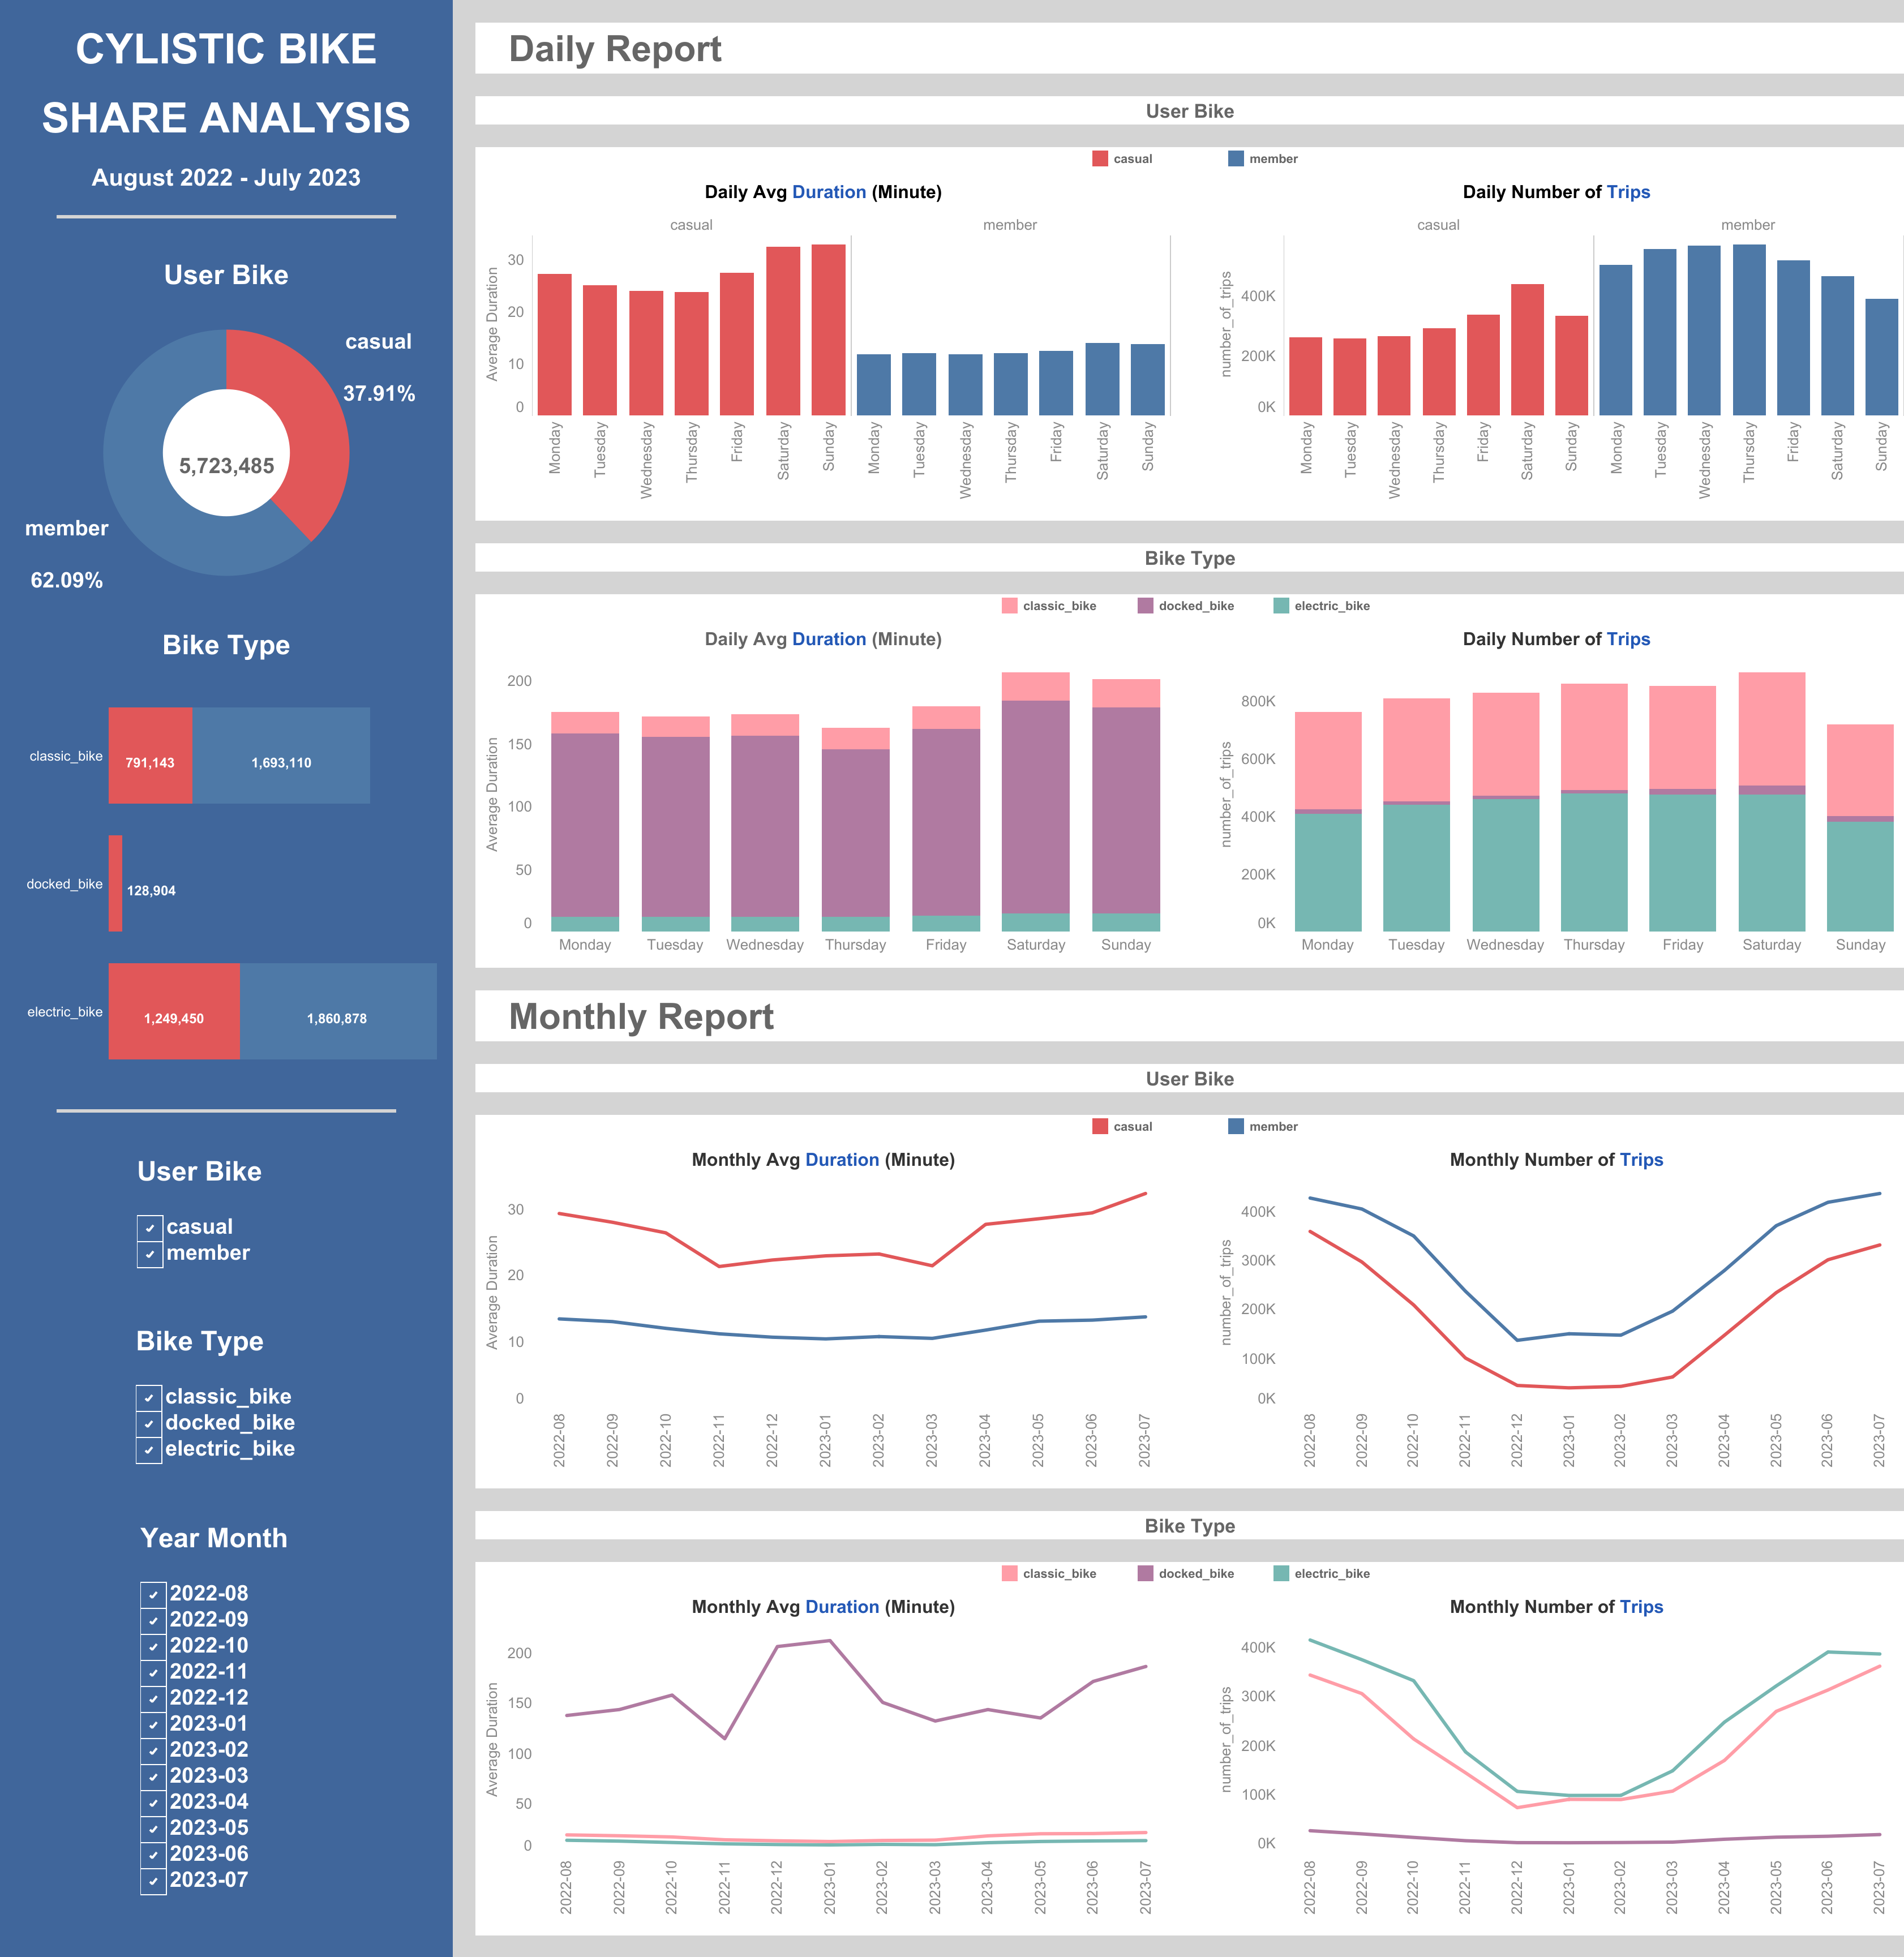

What the dashboard file says about the page in this screenshot:
{"tool":"tableau","page":{"name":"cylistic bike share trips","canvas":[1683,1730],"ordinal":0},"visuals":[{"type":"blank","box":[0,0,400,1730]},{"type":"text","box":[0,20,400,150]},{"type":"text","box":[420,20,1263,45]},{"type":"text","box":[420,85,1263,25]},{"type":"blank","box":[420,130,1263,330]},{"type":"worksheet","title":"daily avg duration (user)","mark":"Automatic","rows":["Calculation_1046946194044203071"],"cols":["member_casual","day_of_week"],"box":[420,130,615,318]},{"type":"legend","title":"daily avg duration (user)","param":"[federated.0k2j8fv1hkhwy61bvl1u911flamf].[none:member_casual:nk]","box":[890,130,340,20]},{"type":"worksheet","title":"daily total trips (users)","mark":"Automatic","rows":["number_of_trips"],"cols":["member_casual","day_of_week"],"box":[1068,130,615,318]},{"type":"blank","box":[50,190,300,3]},{"type":"worksheet","title":"User Bike","mark":"Pie","cols":["Calculation_805299915999571975","Calculation_805299915999891465"],"box":[0,200,400,400]},{"type":"text","box":[0,230,400,25]},{"type":"text","box":[420,480,1263,25]},{"type":"blank","box":[420,525,1263,330]},{"type":"worksheet","title":"daily avg duration (bike)","mark":"Automatic","rows":["Calculation_1046946194044203071"],"cols":["day_of_week"],"box":[420,525,615,318]},{"type":"legend","title":"daily avg duration (bike)","param":"[federated.0k2j8fv1hkhwy61bvl1u911flamf].[none:rideable_type:nk]","box":[810,525,450,20]},{"type":"worksheet","title":"daily total trips (bike)","mark":"Automatic","rows":["number_of_trips"],"cols":["day_of_week"],"box":[1068,525,615,318]},{"type":"worksheet","title":"Bike Type","mark":"Automatic","rows":["rideable_type"],"cols":["number_of_trips"],"box":[0,550,400,400]},{"type":"text","box":[420,875,1263,45]},{"type":"text","box":[420,940,1263,25]},{"type":"blank","box":[50,980,300,3]},{"type":"blank","box":[420,985,1263,330]},{"type":"worksheet","title":"monthly avg duration (user)","mark":"Line","rows":["Calculation_1046946194044203071"],"cols":["year_month"],"box":[420,985,615,318]},{"type":"legend","title":"Bike Type","param":"[federated.0k2j8fv1hkhwy61bvl1u911flamf].[none:member_casual:nk]","box":[890,985,340,20]},{"type":"worksheet","title":"monthly total trips (users)","mark":"Line","rows":["number_of_trips"],"cols":["year_month"],"box":[1068,985,615,318]},{"type":"filter","title":"Bike Type","param":"[federated.0k2j8fv1hkhwy61bvl1u911flamf].[none:member_casual:nk]","box":[121,1020,200,130]},{"type":"blank","box":[126,1070,100,50]},{"type":"filter","title":"Bike Type","param":"[federated.0k2j8fv1hkhwy61bvl1u911flamf].[none:rideable_type:nk]","box":[120,1170,180,160]},{"type":"blank","box":[126,1203,170,80]},{"type":"blank","box":[0,1275,400,40]},{"type":"text","box":[420,1335,1263,25]},{"type":"filter","title":"User Bike","param":"[federated.0k2j8fv1hkhwy61bvl1u911flamf].[none:year_month:nk]","box":[120,1340,280,390]},{"type":"blank","box":[420,1380,1263,330]},{"type":"worksheet","title":"monthly avg duration (bike)","mark":"Line","rows":["Calculation_1046946194044203071"],"cols":["year_month"],"box":[420,1380,615,318]},{"type":"legend","title":"monthly avg duration (bike)","param":"[federated.0k2j8fv1hkhwy61bvl1u911flamf].[none:rideable_type:nk]","box":[810,1380,450,20]},{"type":"worksheet","title":"monthly total trips (bike)","mark":"Line","rows":["number_of_trips"],"cols":["year_month"],"box":[1068,1380,615,318]}]}

Visuals, with their boxes in screenshot pixels (x1, y1, x2, y2), scaled from the page's 1683x1730 canvas onto the 1904x1957 screenshot:
blank: 0/0/453/1956
text: 0/23/453/192
text: 475/23/1903/74
text: 475/96/1903/125
blank: 475/147/1903/520
"daily avg duration (user)" worksheet: 475/147/1171/507
"daily avg duration (user)" legend: 1007/147/1392/170
"daily total trips (users)" worksheet: 1208/147/1903/507
blank: 57/215/396/218
"User Bike" worksheet (Pie marks): 0/226/453/679
text: 0/260/453/289
text: 475/543/1903/571
blank: 475/594/1903/967
"daily avg duration (bike)" worksheet: 475/594/1171/954
"daily avg duration (bike)" legend: 916/594/1426/616
"daily total trips (bike)" worksheet: 1208/594/1903/954
"Bike Type" worksheet: 0/622/453/1075
text: 475/990/1903/1041
text: 475/1063/1903/1092
blank: 57/1109/396/1112
blank: 475/1114/1903/1487
"monthly avg duration (user)" worksheet (Line marks): 475/1114/1171/1474
"Bike Type" legend: 1007/1114/1392/1137
"monthly total trips (users)" worksheet (Line marks): 1208/1114/1903/1474
"Bike Type" filter: 137/1154/363/1301
blank: 143/1211/256/1267
"Bike Type" filter: 136/1324/340/1504
blank: 143/1361/335/1452
blank: 0/1443/453/1487
text: 475/1510/1903/1538
"User Bike" filter: 136/1516/453/1956
blank: 475/1561/1903/1934
"monthly avg duration (bike)" worksheet (Line marks): 475/1561/1171/1921
"monthly avg duration (bike)" legend: 916/1561/1426/1583
"monthly total trips (bike)" worksheet (Line marks): 1208/1561/1903/1921
